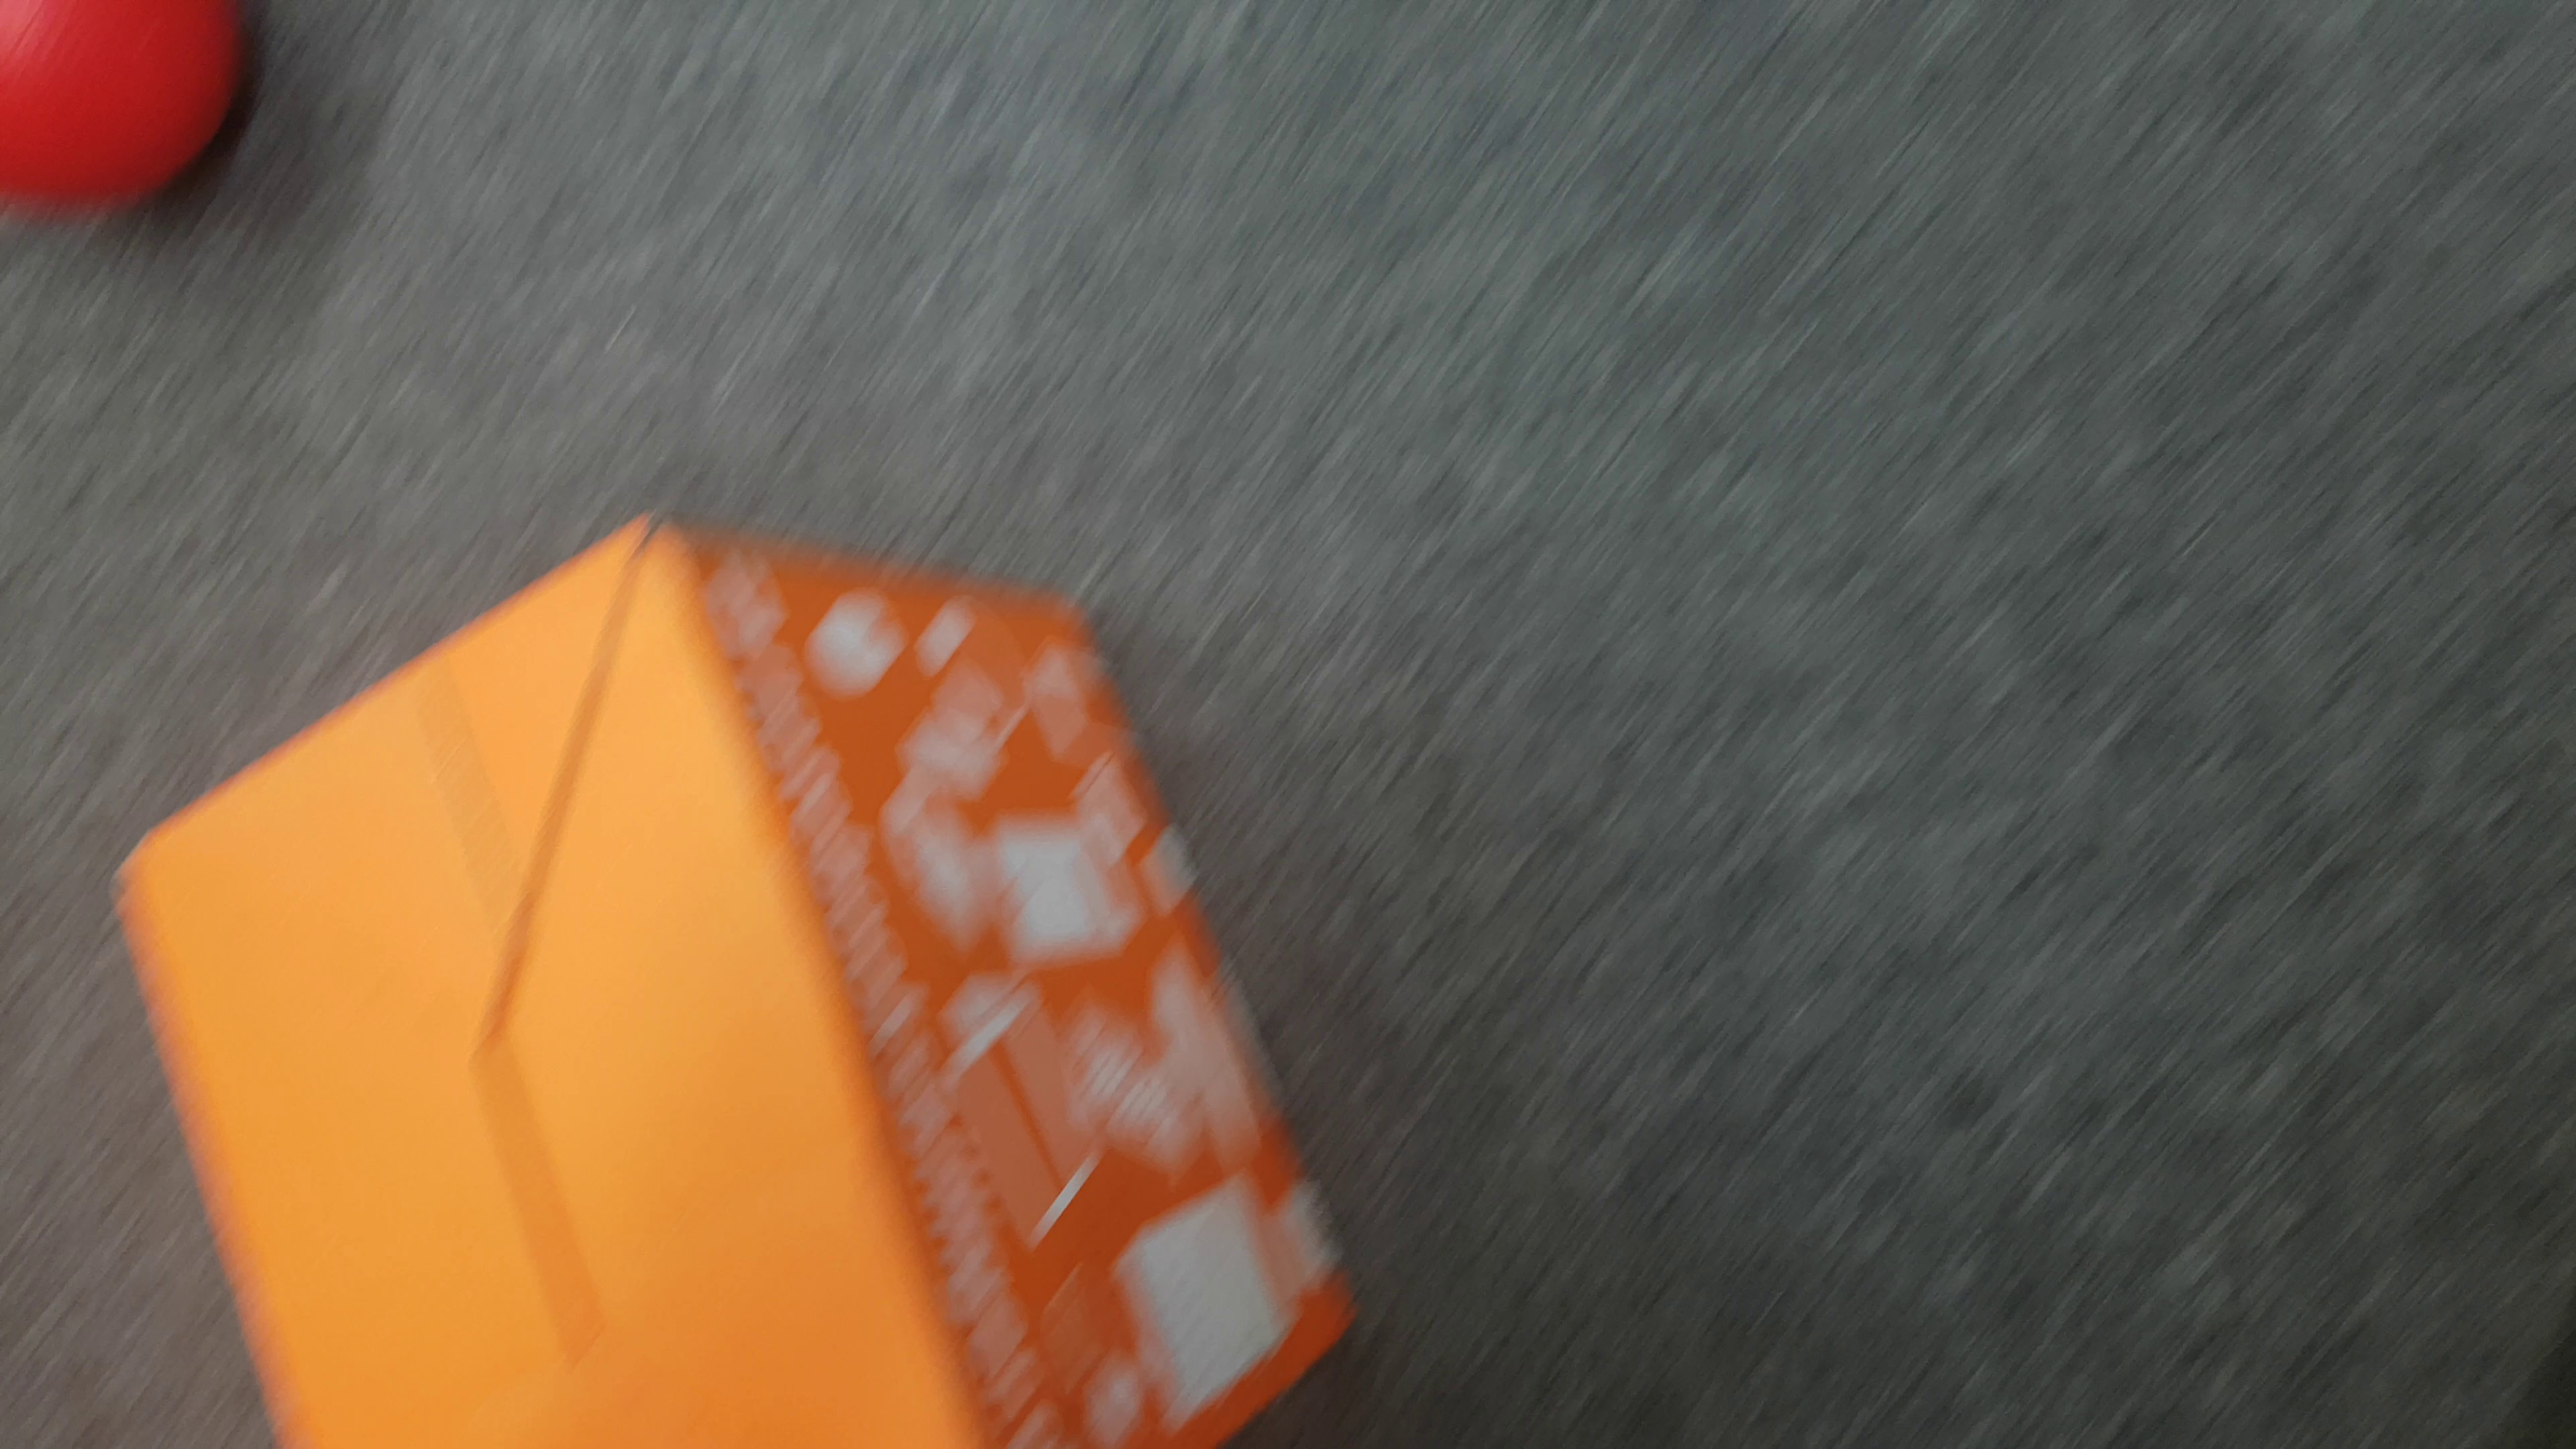kick: (4, 9, 248, 223)
push: (108, 515, 1357, 1449)
